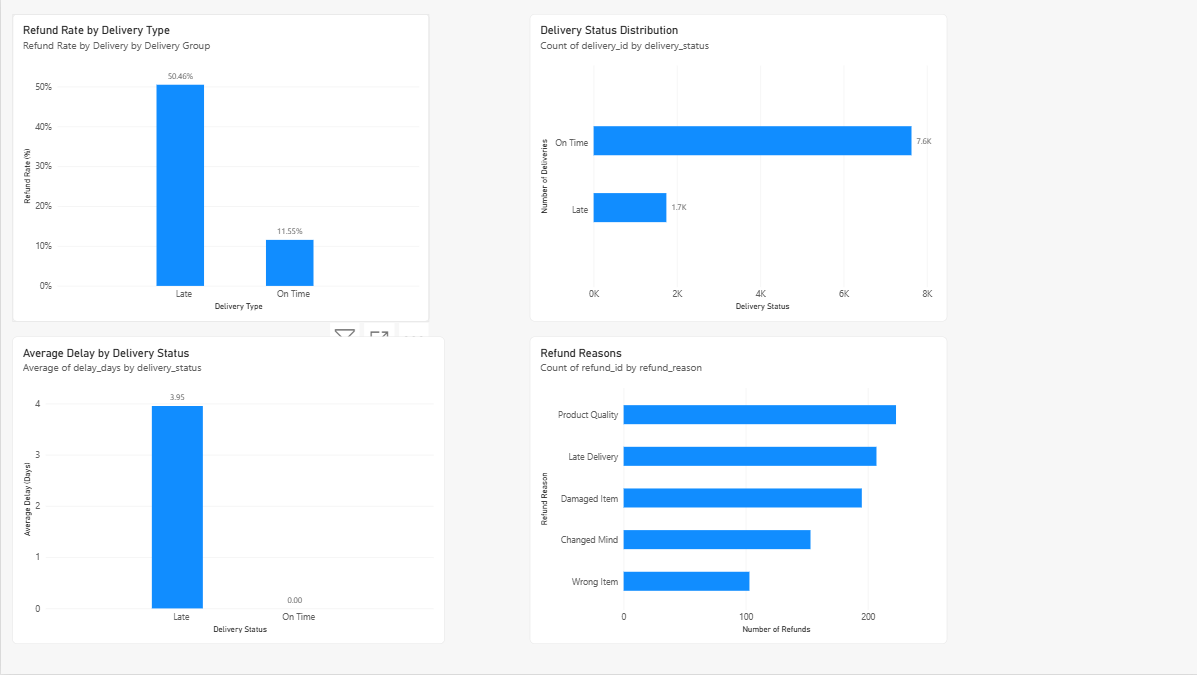

The dashboard page shown, as its layout file describes it:
{"tool":"powerbi","page":{"name":"Refunds & Delivery","canvas":[1920,1080],"ordinal":2},"visuals":[{"type":"clusteredColumnChart","title":"Refund Rate by Delivery Type","fields":{"Category":["deliveries.Delivery Group"],"Y":["deliveries.Refund Rate by Delivery"]},"box":[18.3,23.3,668.3,491.7],"z":0},{"type":"clusteredBarChart","title":"Delivery Status Distribution","fields":{"Category":["deliveries.delivery_status"],"Y":["CountNonNull(deliveries.delivery_id)"]},"box":[845,23.3,668,492],"z":1},{"type":"clusteredColumnChart","title":"Average Delay by Delivery Status","fields":{"Category":["deliveries.delivery_status"],"Y":["Avg(deliveries.delay_days)"]},"box":[18.3,540,691.7,491.7],"z":2},{"type":"clusteredBarChart","title":"Refund Reasons","fields":{"Category":["refunds.refund_reason"],"Y":["CountNonNull(refunds.refund_id)"]},"box":[845,540,668,492],"z":3}]}

Visuals, with their boxes in screenshot pixels (x1, y1, x2, y2), scaled from the page's 1920x1080 canvas onto the 1197x675 screenshot:
"Refund Rate by Delivery Type" clusteredColumnChart: box=[11, 15, 428, 322]
"Delivery Status Distribution" clusteredBarChart: box=[527, 15, 943, 322]
"Average Delay by Delivery Status" clusteredColumnChart: box=[11, 338, 443, 645]
"Refund Reasons" clusteredBarChart: box=[527, 338, 943, 645]
